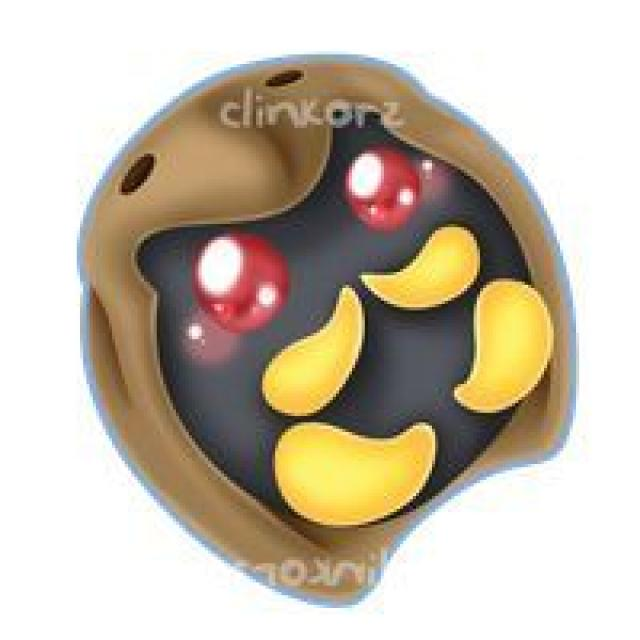Kabuto: (75, 58, 593, 595)
